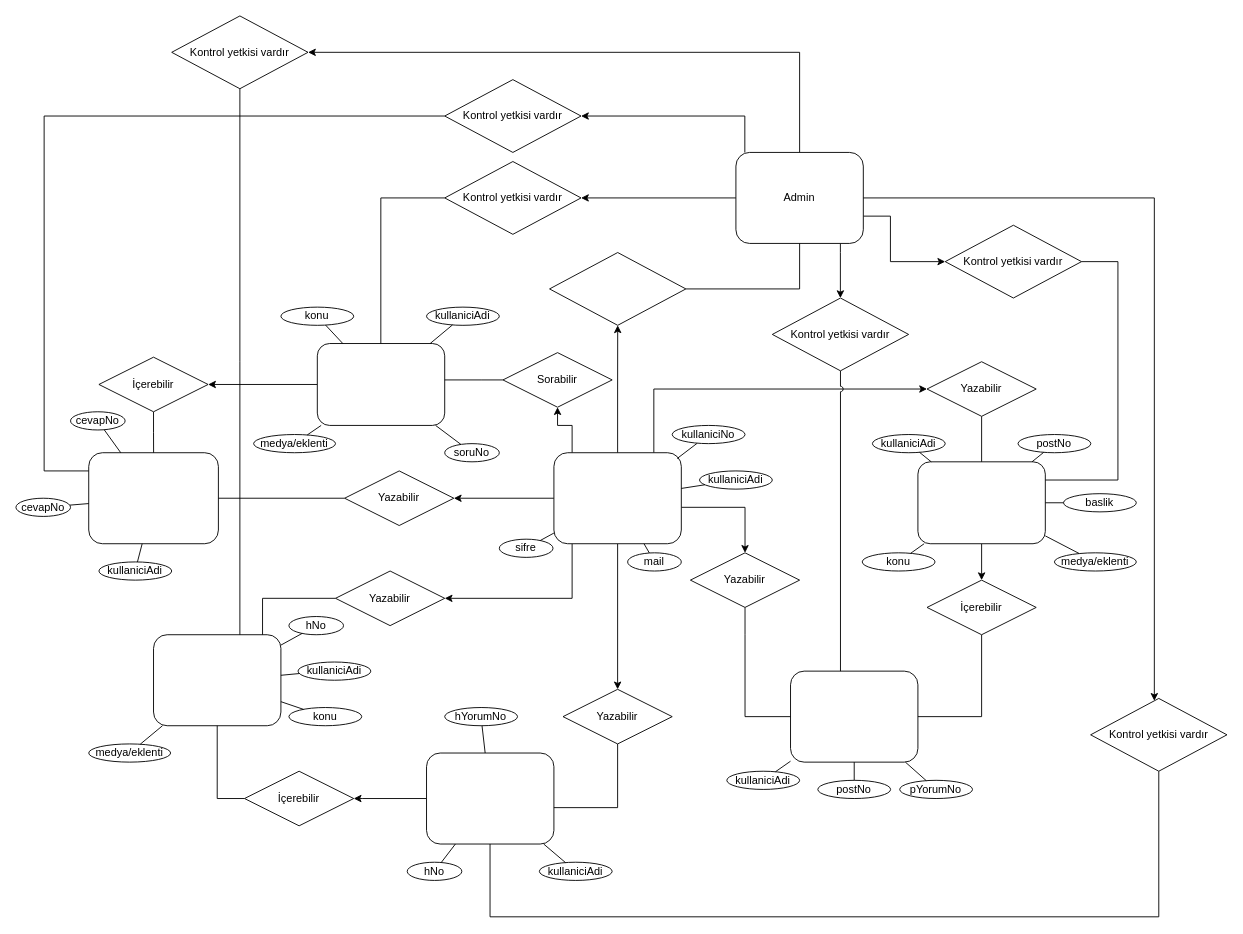
The diagram is 1243 pixels wide and 934 high, and some of its shapes have lost their labels. Here are the shapes that lost their labels. From the top down, the box of each, then its label:
(549, 252, 686, 325): Silebilir/Düzenleyebilir
(316, 343, 445, 425): Soru
(88, 452, 218, 544): Cevap
(553, 452, 681, 544): Kullanıcı
(917, 461, 1045, 544): Post
(153, 634, 281, 726): Haber/Köşe Yazısı
(790, 670, 918, 762): pYorum
(426, 752, 554, 844): hYorum
